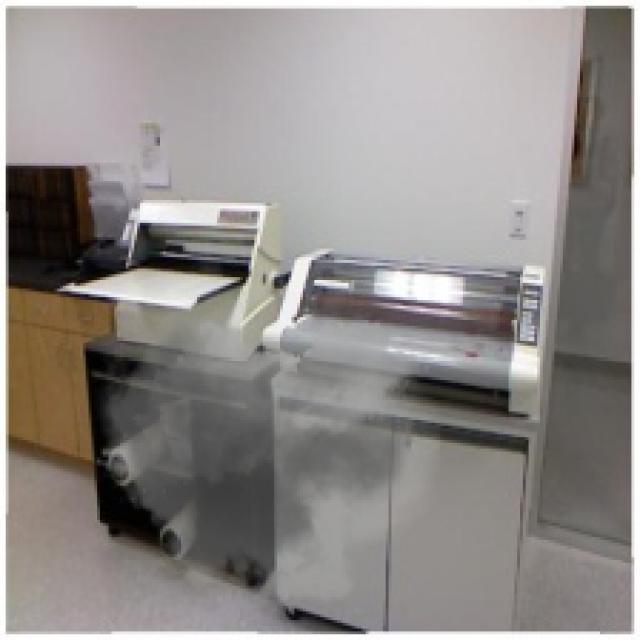Smoke: (83, 245, 443, 620)
